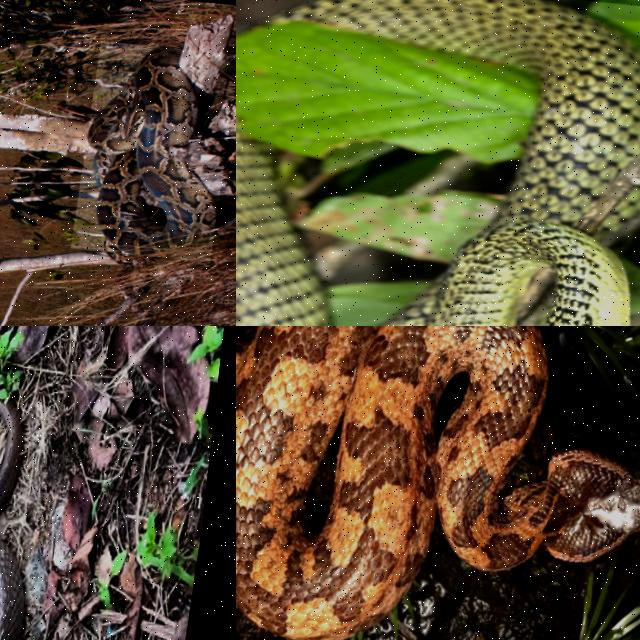Chrysopelea ornata: (268, 0, 639, 325)
Naja kaouthia: (0, 401, 22, 510)
Ovophis monticola: (236, 326, 639, 639)
Python bivittatus: (88, 47, 216, 255)
snake: (236, 326, 639, 639), (268, 0, 639, 325), (88, 47, 216, 255), (0, 401, 22, 510)
